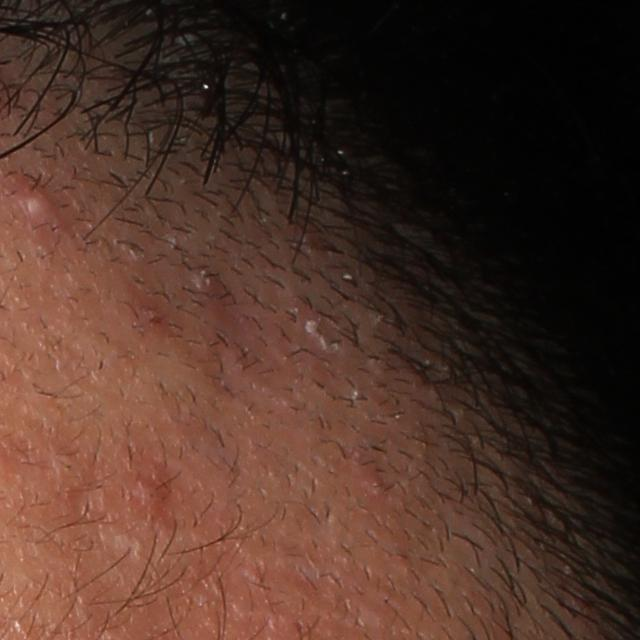papule: (129, 478, 168, 515)
pustule: (9, 174, 56, 223)
